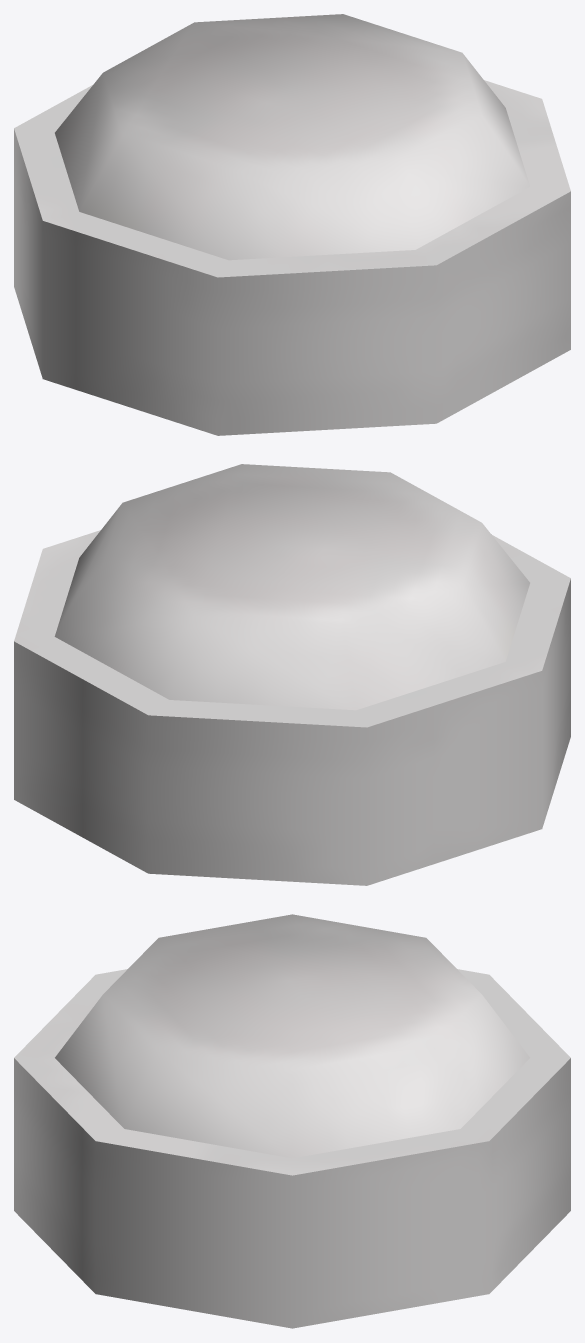
File: Pipe_End.fbx
3 renders of one model, top to bottom at view 1: azimuth 30°, elevation 25°; view 2: azimuth 150°, elevation 25°; view 3: azimuth 270°, elevation 25°, orthographic. The views are drawn at different scales.
Visible parts, largest first — view 1: Mat_Pipe_01 4; view 2: Mat_Pipe_01 4; view 3: Mat_Pipe_01 4.
Boxes of the visible parts, x1,y1,x2,y2 form: Mat_Pipe_01 4: [14, 14, 570, 435]; Mat_Pipe_01 4: [14, 464, 570, 885]; Mat_Pipe_01 4: [14, 914, 570, 1328].
Bounding box in the file's own units: 0.3771 × 0.1617 × 0.3771.
Materials: 1 (1 with a texture image).
